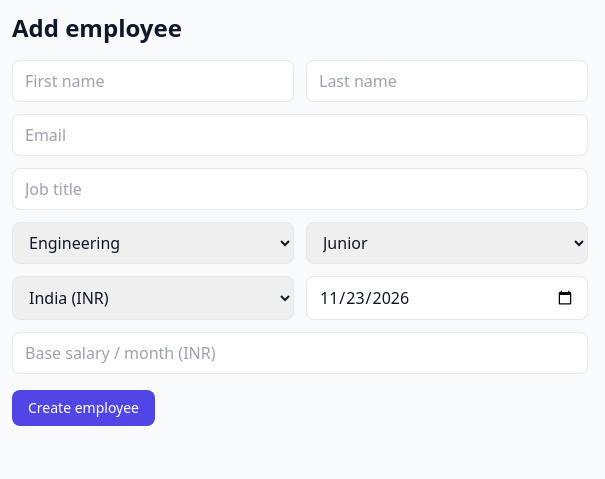
AddEmployee page › requires a valid email
In the field labelled "First name": (153, 81) left=12, top=60, right=294, bottom=102, type "Asha"
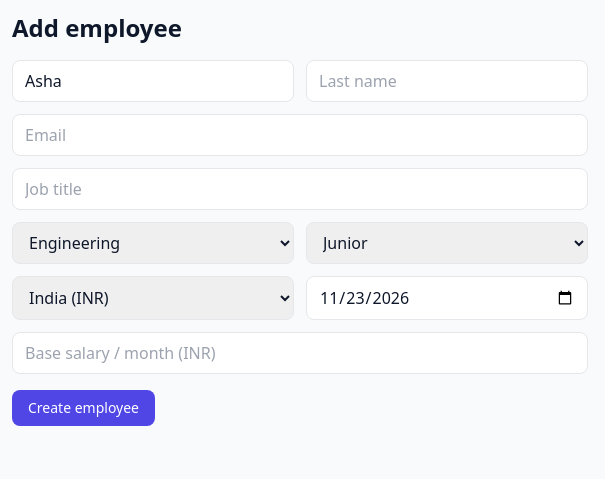
In the field labelled "Last name": (447, 81) left=306, top=60, right=588, bottom=102, type "Verma"
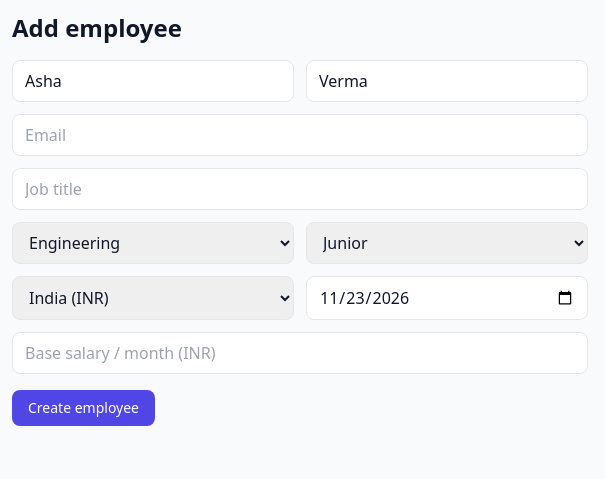
In the field labelled "Email": (300, 135) left=12, top=114, right=588, bottom=156, type "not-an-email"
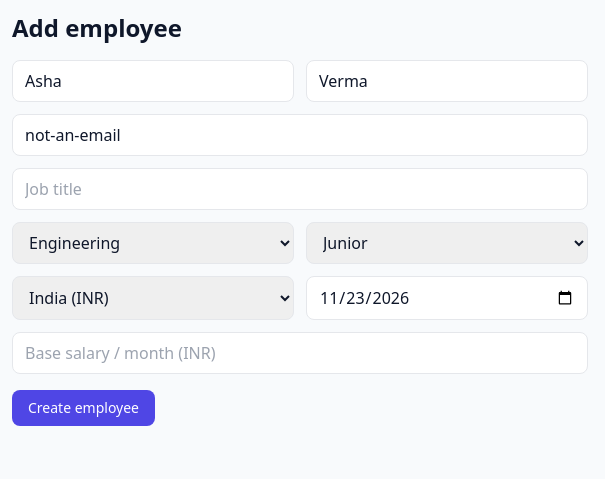
In the field labelled "Job title": (300, 189) left=12, top=168, right=588, bottom=210, type "Engineer"
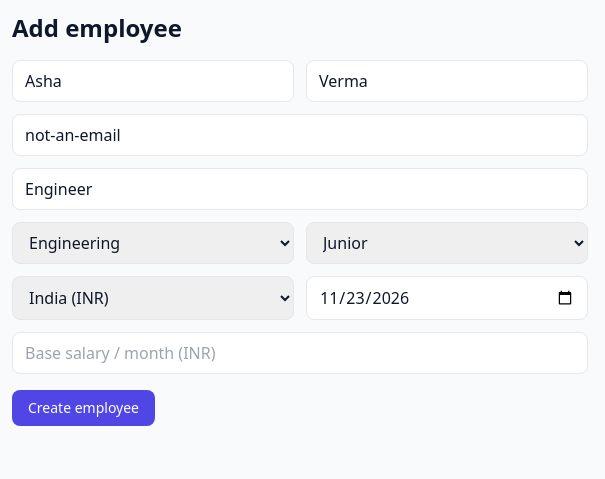
In the number field labelled "Base salary": (300, 353) left=12, top=332, right=588, bottom=374, type "120000"
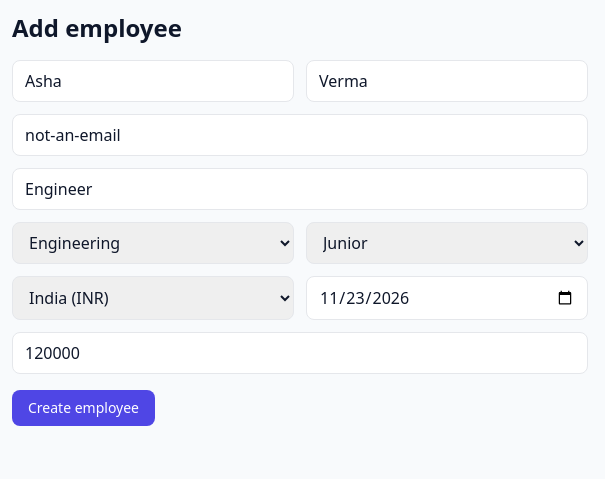
Click the button "Create employee": (84, 408) left=12, top=390, right=155, bottom=426
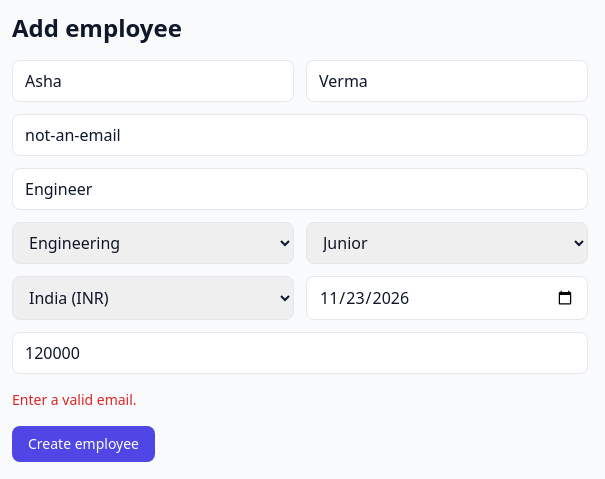
Expected: the text "Enter a valid email." is shown, left=12, top=390, right=137, bottom=409
